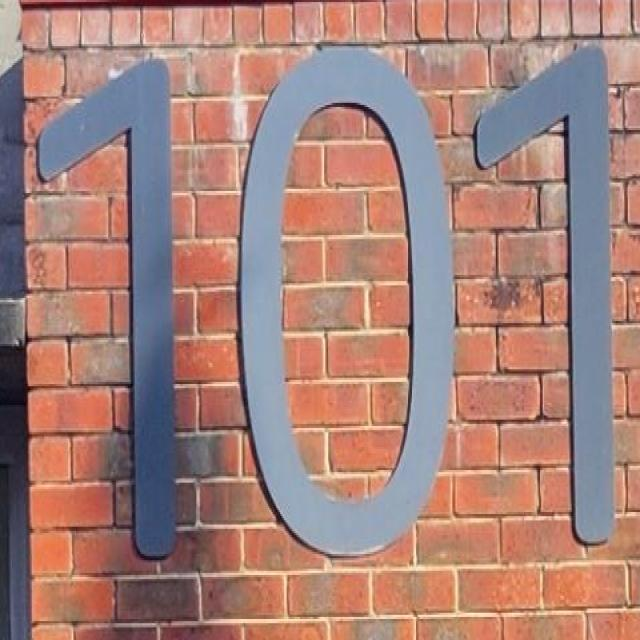character: (232, 36, 459, 566), (468, 40, 620, 556), (34, 54, 183, 566)
